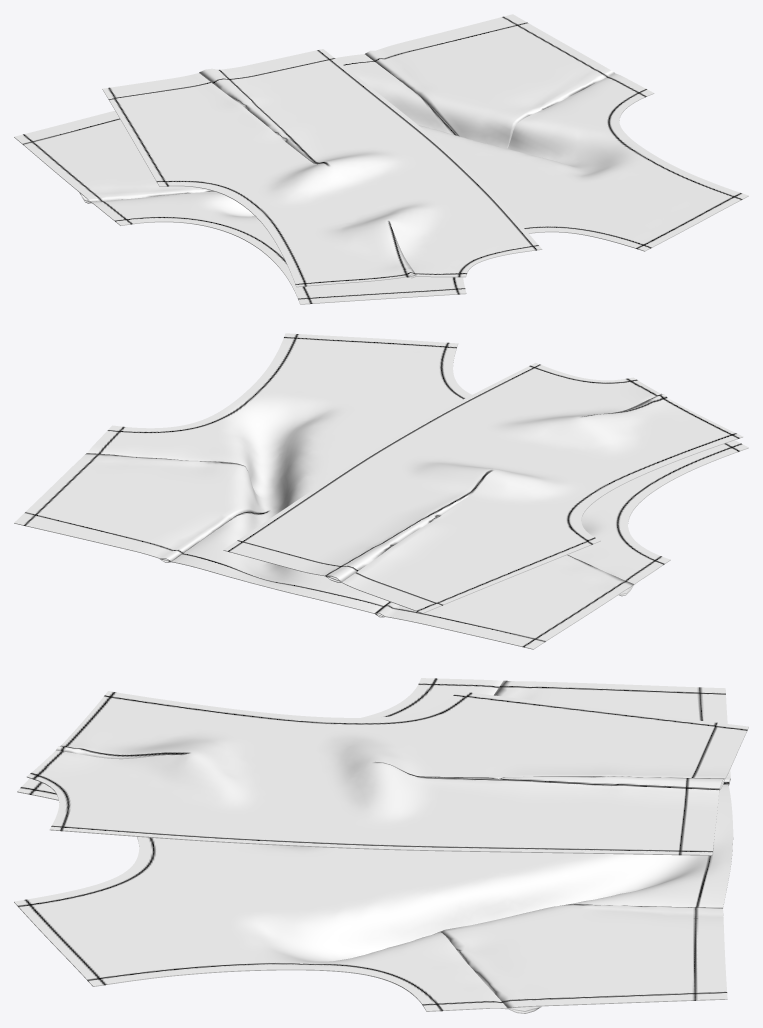
Rendered from fengheqian.fbx.
3 views of the same model, one above another, from view 1: azimuth 30°, elevation 25°; view 2: azimuth 150°, elevation 25°; view 3: azimuth 270°, elevation 25° (orthographic). The views are drawn at different scales.
Parts seen in each view (by area): view 1: jianfengfenghe_qian; view 2: jianfengfenghe_qian; view 3: jianfengfenghe_qian.
Boxes of the visible parts, x1,y1,x2,y2 form: jianfengfenghe_qian: (14,14,748,304); jianfengfenghe_qian: (14,333,748,649); jianfengfenghe_qian: (14,678,748,1013).
Size of the model in its own units: 42.02 by 4.44 by 39.17.
1 material, 1 textured.
